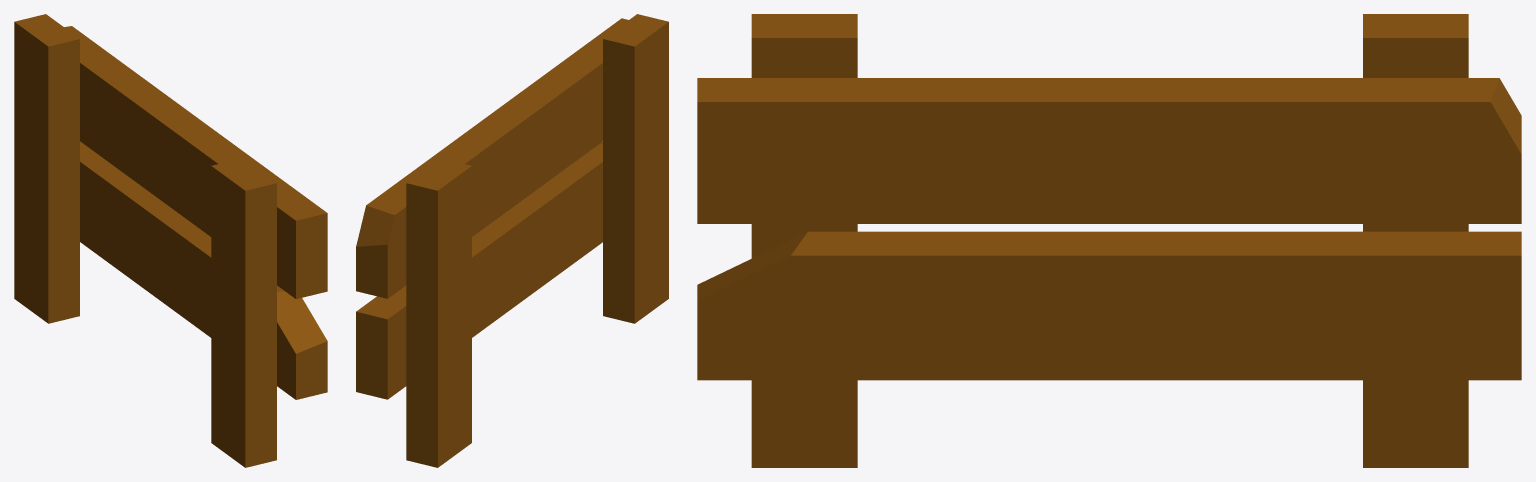
File: fences02.glb
3 views of the same model, side by side, from view 1: azimuth 30°, elevation 25°; view 2: azimuth 150°, elevation 25°; view 3: azimuth 270°, elevation 25° (orthographic). The views are drawn at different scales.
Visible parts, largest first — view 1: Cube; view 2: Cube; view 3: Cube.
Boxes of the visible parts, x1,y1,x2,y2 form: Cube: (14, 14, 327, 467); Cube: (356, 14, 668, 467); Cube: (697, 14, 1521, 467).
Bounding box in the file's own units: 0.3665 × 1.5 × 2.61.
